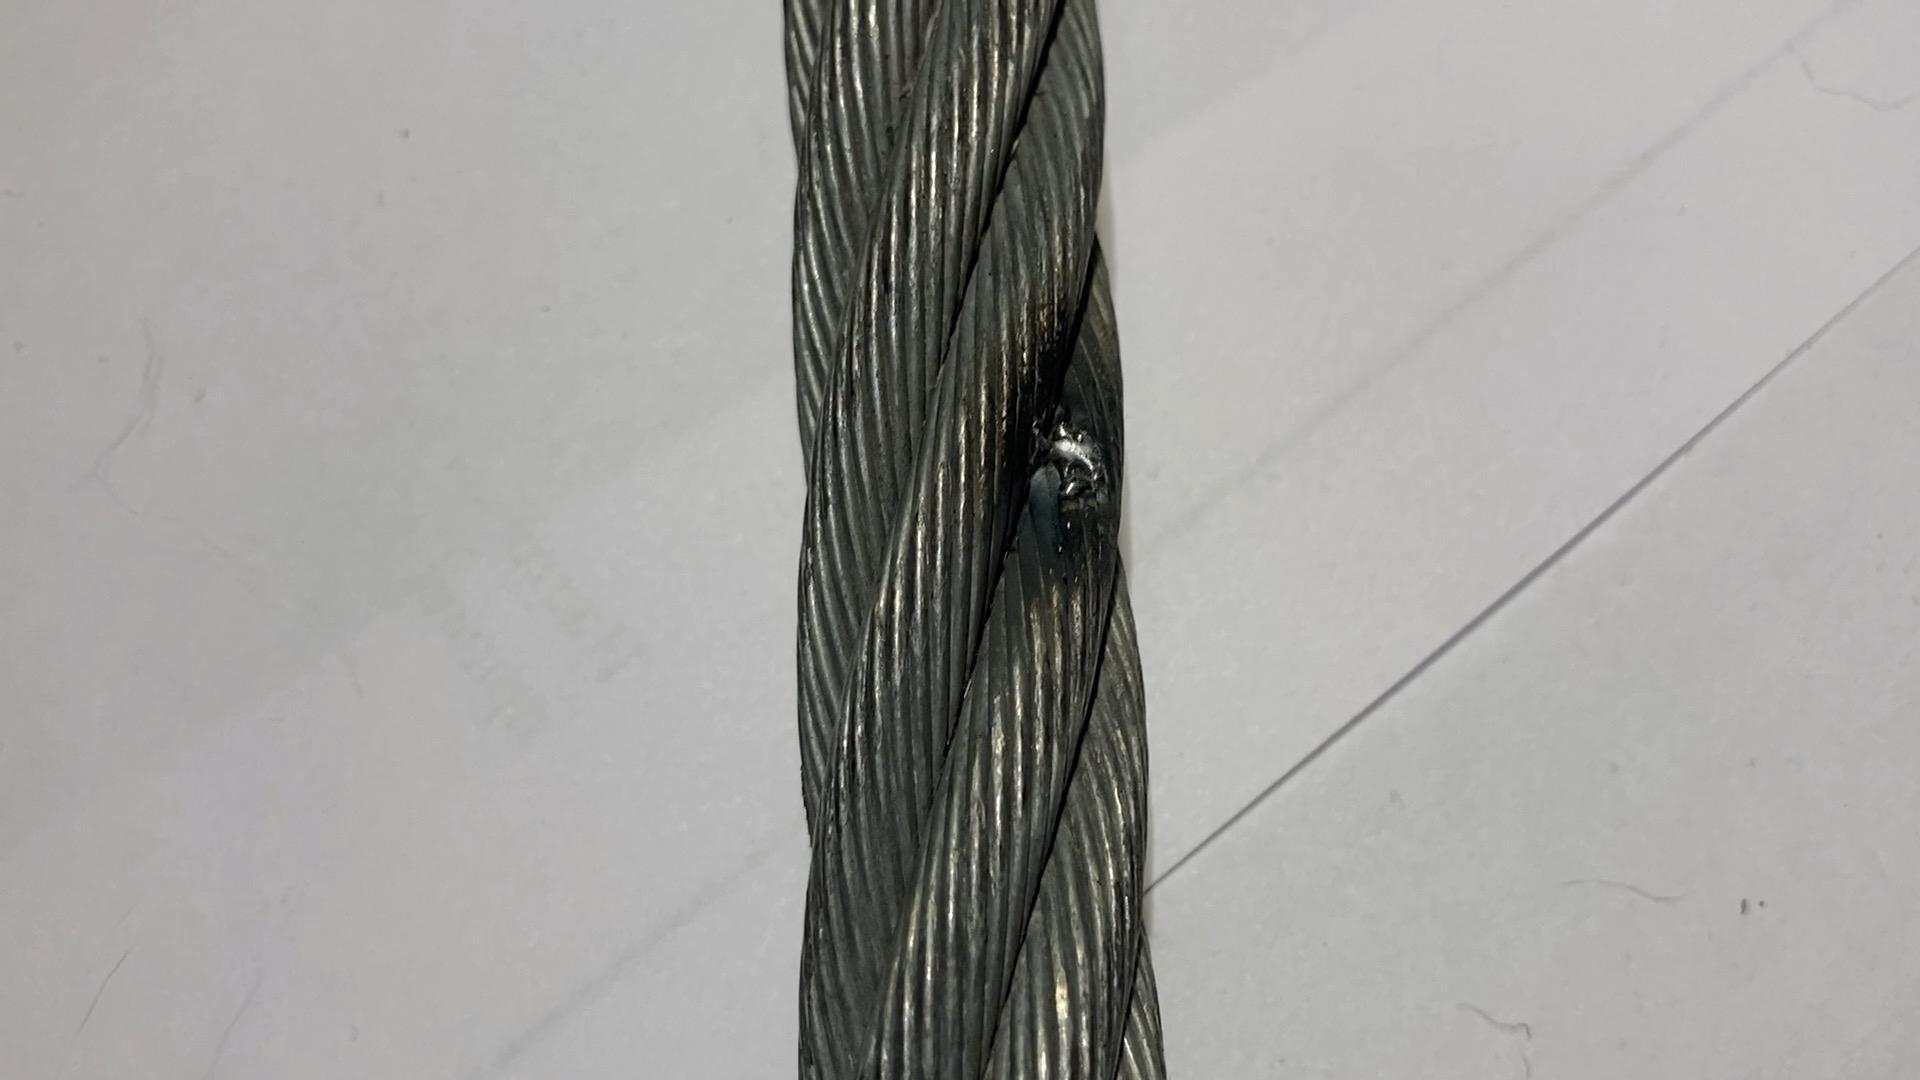thunderbolt: (998, 400, 1164, 550)
